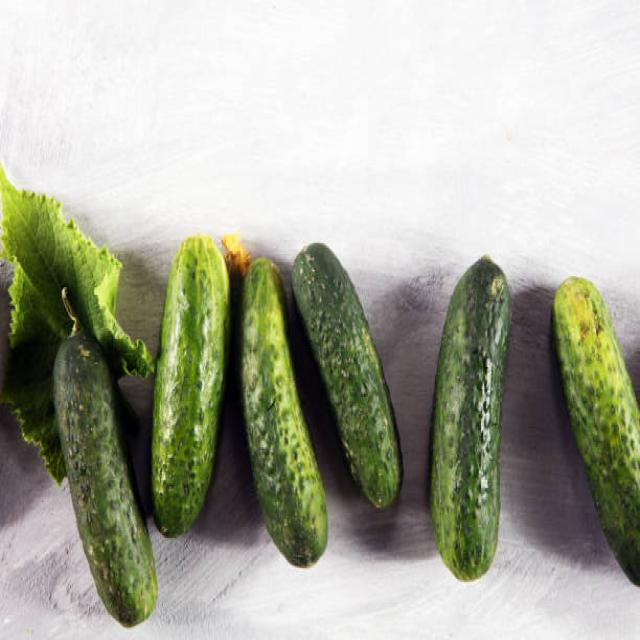cucumber: (54, 332, 158, 633), (291, 242, 403, 511), (239, 257, 331, 569), (550, 275, 640, 585), (430, 252, 511, 581), (152, 236, 228, 539)
